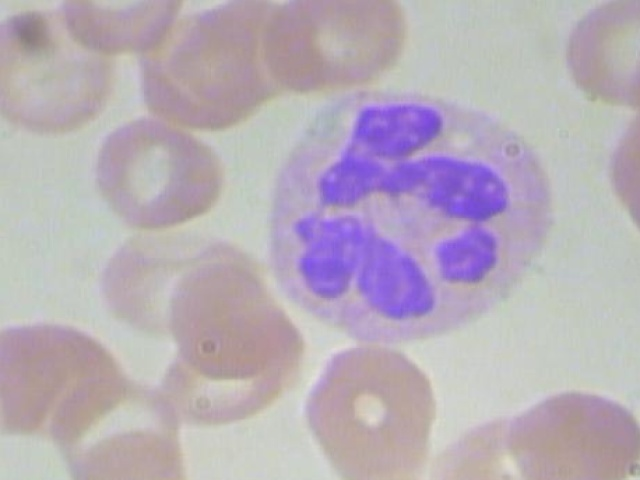RBC: (291, 338, 441, 480), (85, 111, 237, 232), (0, 3, 122, 141), (162, 254, 293, 376), (263, 0, 414, 92), (510, 386, 640, 480), (455, 401, 600, 480), (549, 0, 640, 106), (50, 0, 202, 59), (597, 103, 640, 256)
WBC: (253, 90, 566, 347)
